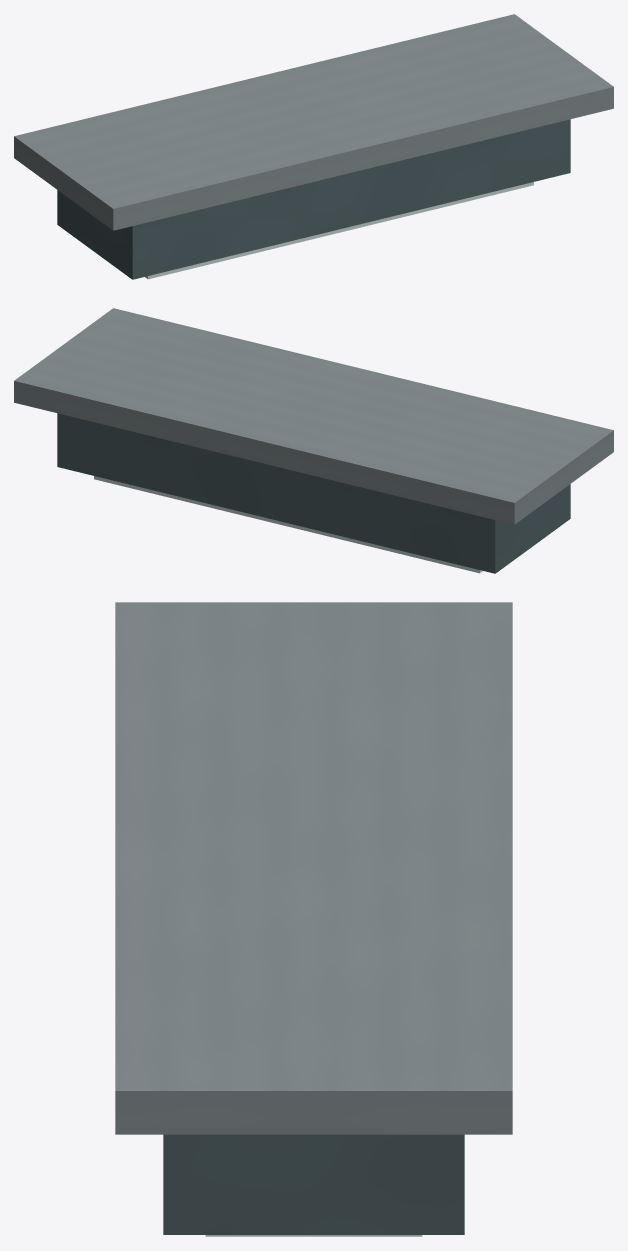
Rendered from AST-STF-G3-005.glb.
The picture shows the model from 3 angles, top to bottom: view 1: azimuth 30°, elevation 25°; view 2: azimuth 150°, elevation 25°; view 3: azimuth 270°, elevation 25°; orthographic projection. The views are drawn at different scales.
Parts seen in each view (by area): view 1: fixture_support_staff_zinc_D03_depot_receiving, lighting_fixture_staff_bluegrey_paint_D03_depot_receiving, lighting_fixture_staff_opal_D03_depot_receiving; view 2: fixture_support_staff_zinc_D03_depot_receiving, lighting_fixture_staff_bluegrey_paint_D03_depot_receiving, lighting_fixture_staff_opal_D03_depot_receiving; view 3: fixture_support_staff_zinc_D03_depot_receiving, lighting_fixture_staff_bluegrey_paint_D03_depot_receiving.
Boxes of the visible parts, x1,y1,x2,y2 form: fixture_support_staff_zinc_D03_depot_receiving: (14,14,613,230); lighting_fixture_staff_bluegrey_paint_D03_depot_receiving: (57,119,570,279); lighting_fixture_staff_opal_D03_depot_receiving: (145,182,533,279); fixture_support_staff_zinc_D03_depot_receiving: (14,308,613,524); lighting_fixture_staff_bluegrey_paint_D03_depot_receiving: (57,413,570,573); lighting_fixture_staff_opal_D03_depot_receiving: (94,476,482,573); fixture_support_staff_zinc_D03_depot_receiving: (115,602,512,1134); lighting_fixture_staff_bluegrey_paint_D03_depot_receiving: (163,1134,464,1234).
Size of the model in its own units: 0.96 by 0.185 by 0.33.
Materials: 3 (3 with a texture image).
